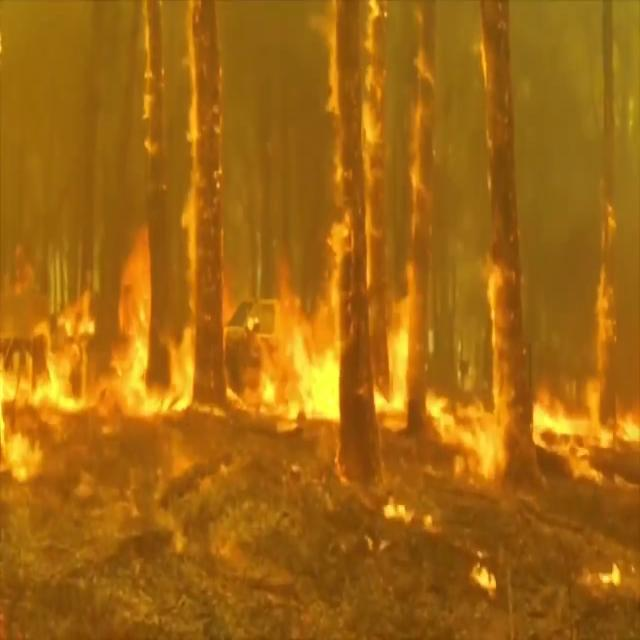Fire: (390, 213, 640, 620), (0, 218, 195, 428), (247, 196, 356, 422)
